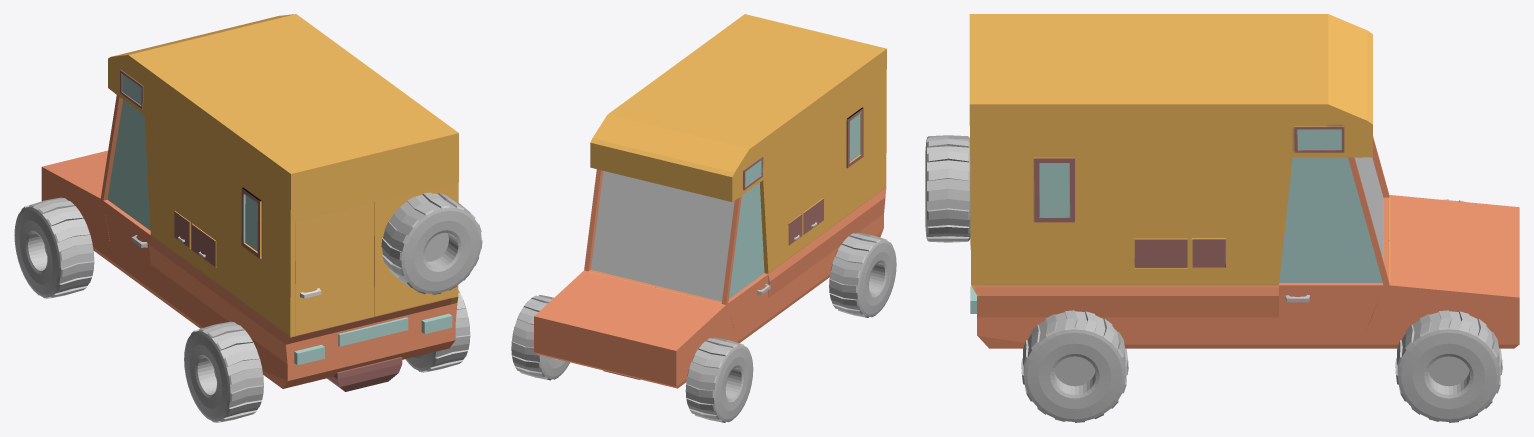
File: HoneyTruck.fbx
3 views of the same model, side by side, from view 1: azimuth 30°, elevation 25°; view 2: azimuth 150°, elevation 25°; view 3: azimuth 270°, elevation 25° (orthographic). The views are drawn at different scales.
Visible parts, largest first — view 1: CarBase, BackDoor, SpareTire, WheelFrontLeft, WheelBackLeft, DoorLeft, WheelBackRight, BackNumber, BackLightRight, BackLightLeft; view 2: CarBase, FrontWindow, WheelBackLeft, WheelFrontLeft, DoorLeft, WheelFrontRight; view 3: CarBase, DoorRight, WheelBackRight, WheelFrontRight, SpareTire, FrontWindow.
Part boxes in pixels (x1,y1,x2,y2): CarBase: [41, 14, 458, 391]; BackDoor: [295, 202, 374, 335]; SpareTire: [381, 192, 482, 294]; WheelFrontLeft: [14, 197, 94, 298]; WheelBackLeft: [184, 321, 263, 422]; DoorLeft: [103, 99, 150, 288]; WheelBackRight: [405, 290, 470, 372]; BackNumber: [338, 317, 408, 346]; BackLightRight: [421, 313, 452, 334]; BackLightLeft: [294, 344, 324, 365]; CarBase: [534, 14, 886, 388]; FrontWindow: [591, 171, 734, 301]; WheelBackLeft: [829, 232, 896, 317]; WheelFrontLeft: [685, 337, 753, 422]; DoorLeft: [728, 183, 768, 341]; WheelFrontRight: [511, 295, 569, 380]; CarBase: [969, 14, 1519, 348]; DoorRight: [1279, 157, 1383, 344]; WheelBackRight: [1021, 310, 1128, 422]; WheelFrontRight: [1395, 310, 1502, 422]; SpareTire: [925, 135, 970, 242]; FrontWindow: [1355, 157, 1383, 259].
Bounding box in the file's own units: 289 × 310 × 555.
